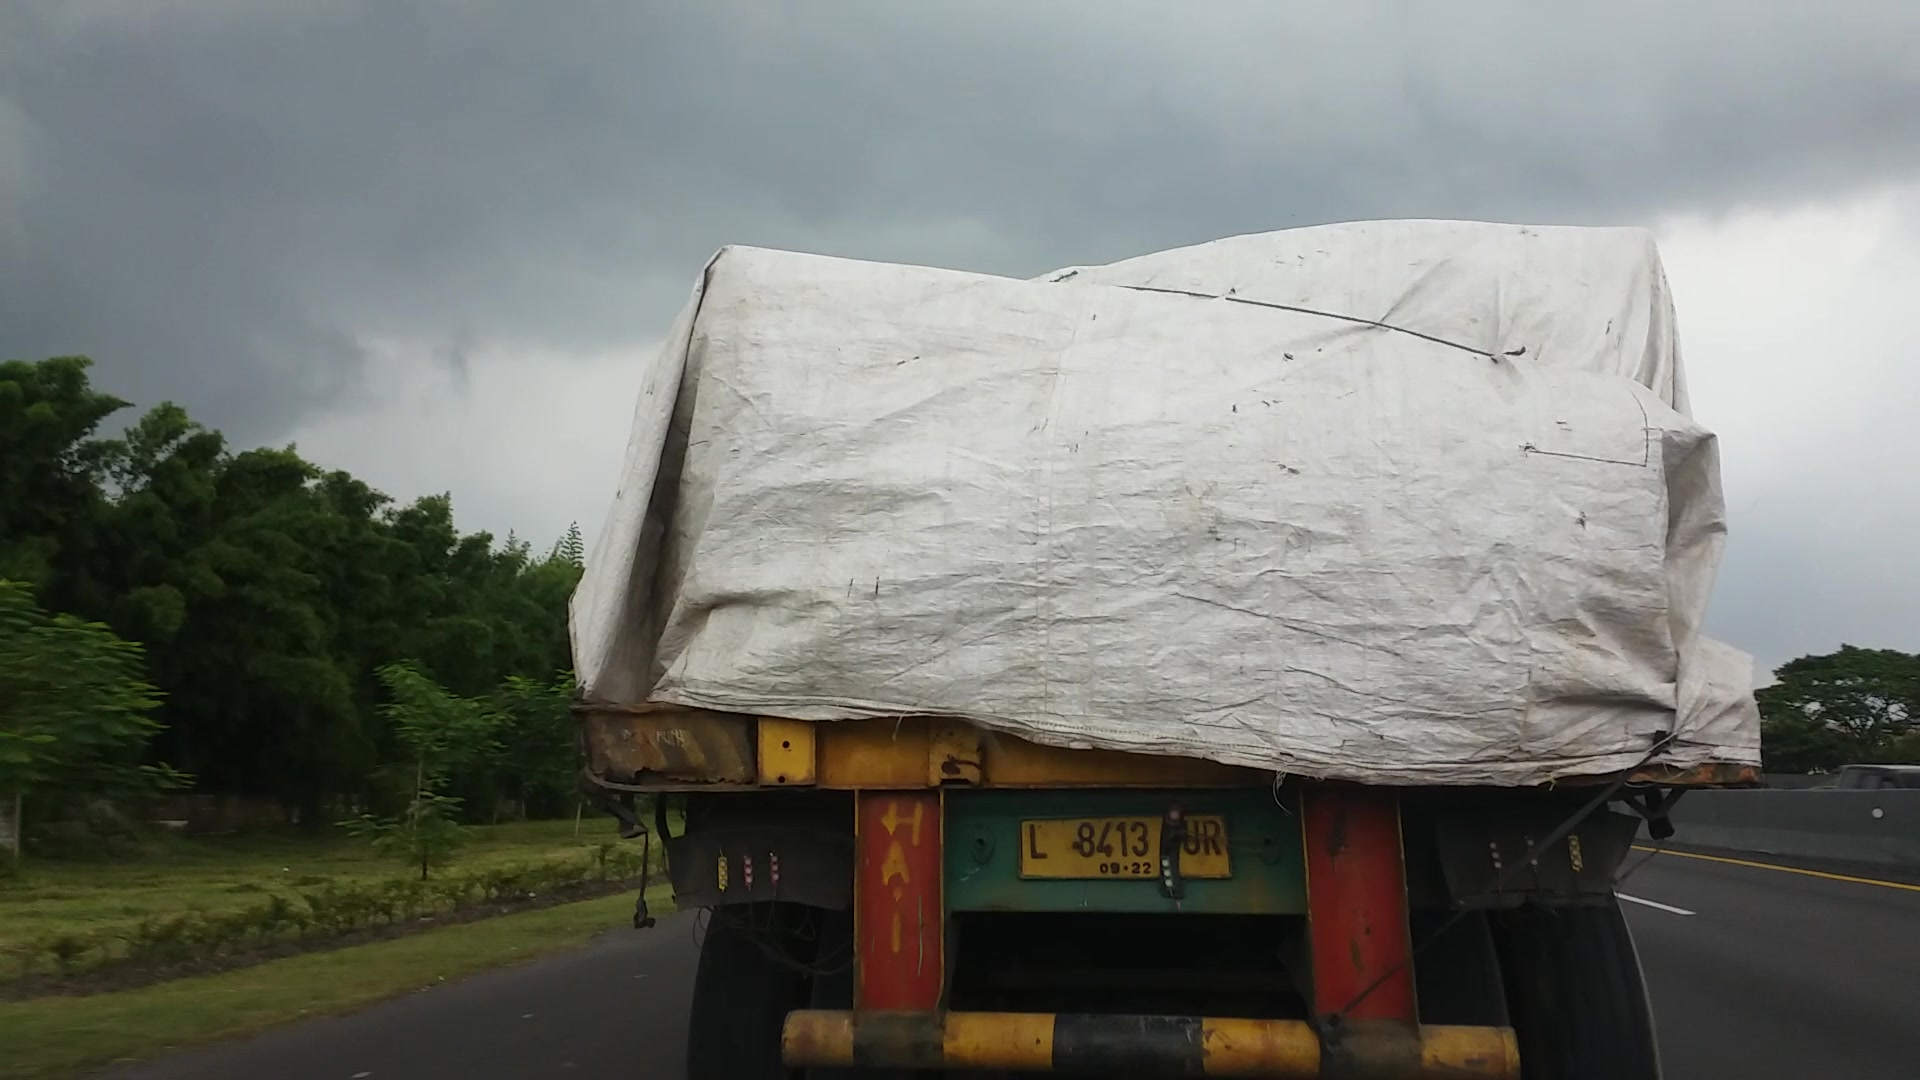plate_positive: (1019, 814, 1232, 881)
